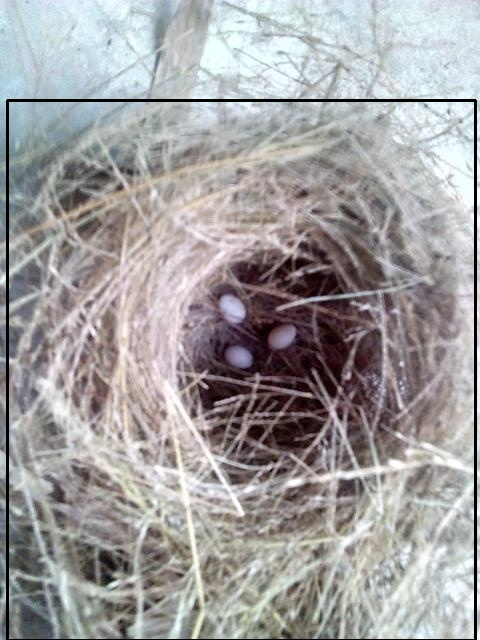bird-nest: (46, 110, 472, 594)
